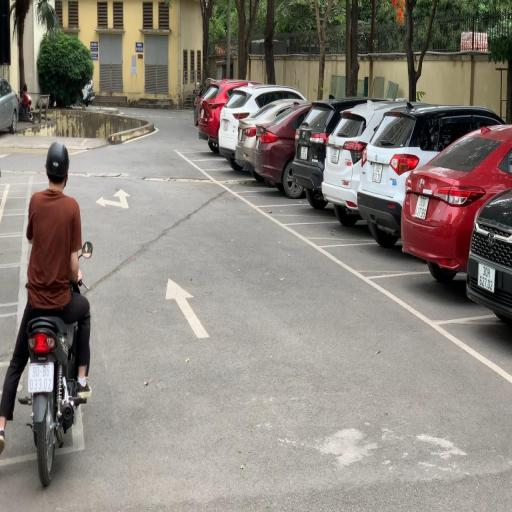bike: (0, 139, 90, 486)
numberplate: (27, 361, 54, 394)
with helmet: (46, 141, 70, 181)
